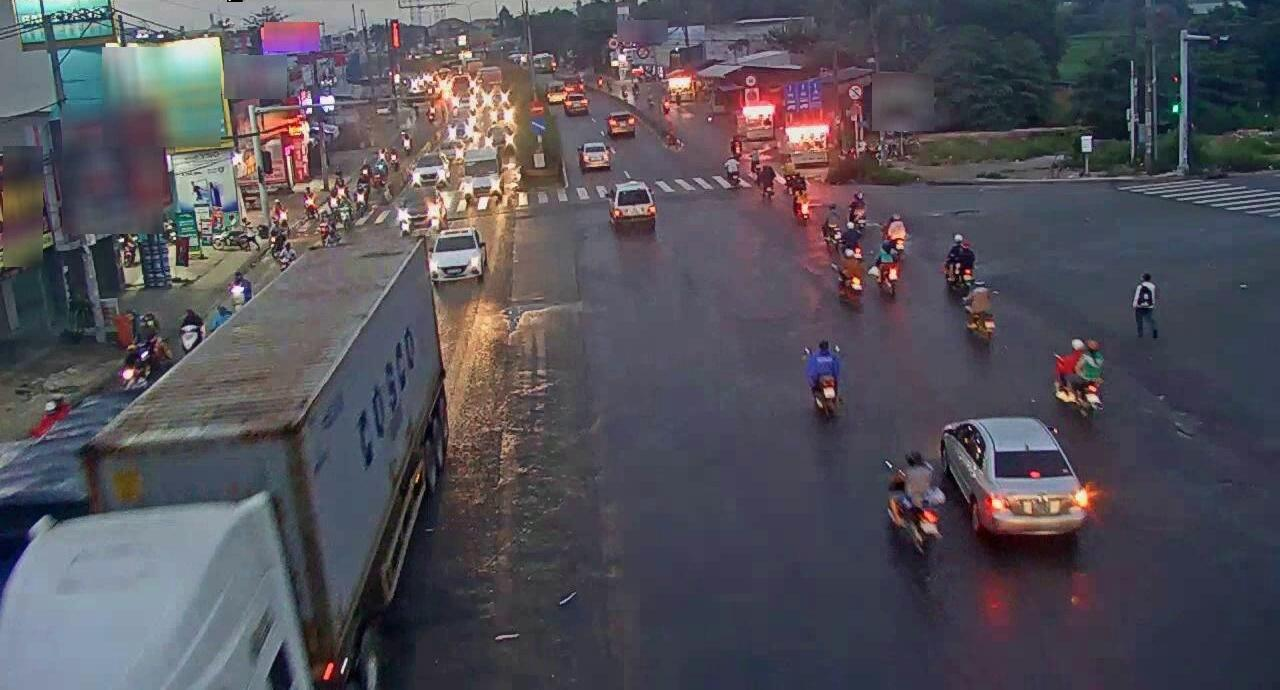xe container: (0, 228, 442, 690)
xe hoi: (939, 411, 1107, 555), (604, 173, 664, 240)
xe may: (881, 446, 942, 568), (1044, 327, 1112, 428), (795, 325, 852, 433), (961, 272, 1000, 351), (940, 231, 978, 300), (869, 235, 901, 303), (831, 247, 864, 309)
